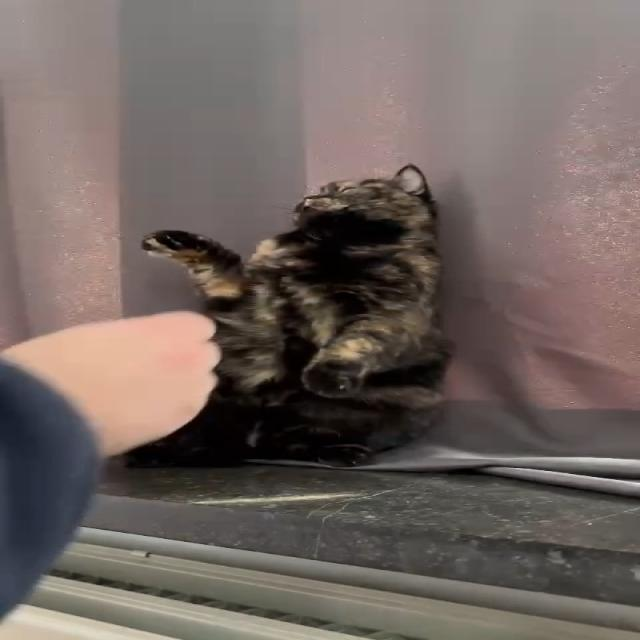authorized: (120, 162, 453, 469)
